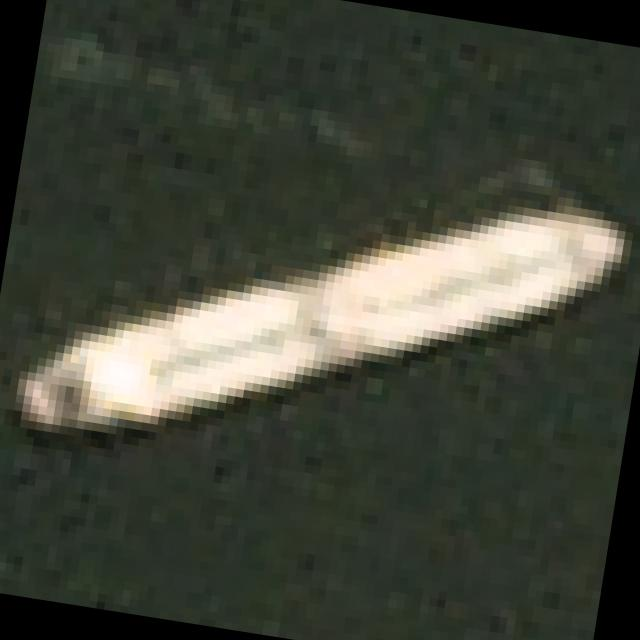ship: (2, 95, 640, 556)
